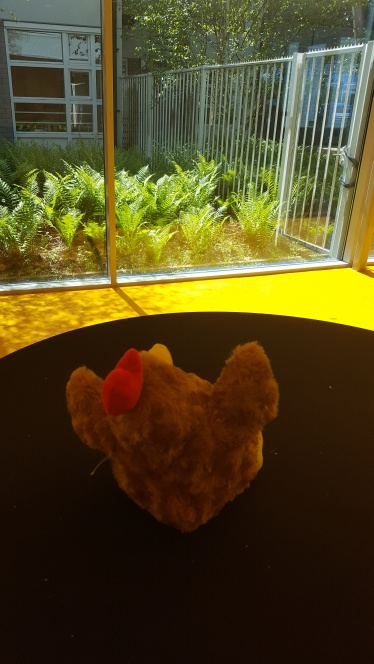chicken_back: (66, 338, 282, 530)
